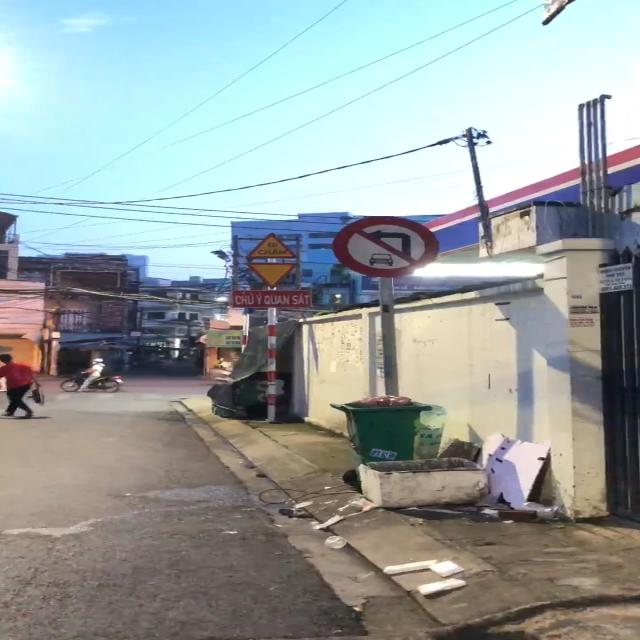Bien bao cam xe o to re trai: (330, 214, 446, 278)
Bien bao di cham: (244, 227, 302, 263)
Bien bao giao nhau voi duong uu tien: (243, 260, 300, 288)
